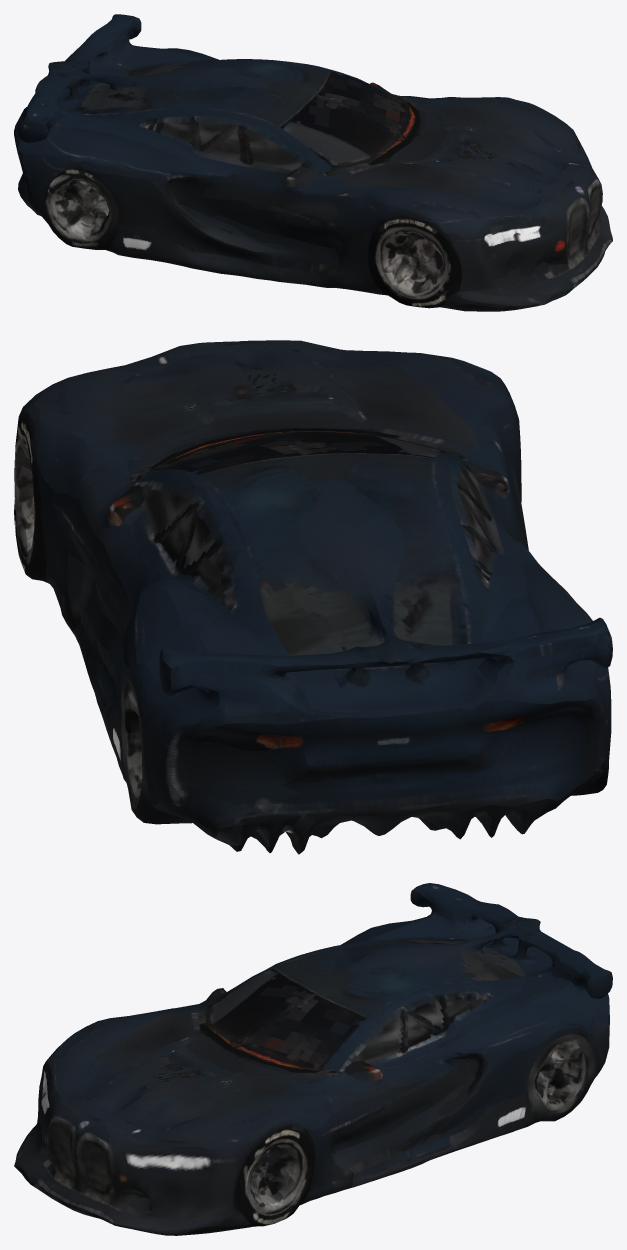
Rendered from bmw_m5_dark_grey.glb.
3 views of the same model, one above another, from view 1: azimuth 30°, elevation 25°; view 2: azimuth 150°, elevation 25°; view 3: azimuth 270°, elevation 25° (orthographic). The views are drawn at different scales.
Visible parts, largest first — view 1: bmw_m5_dark_grey; view 2: bmw_m5_dark_grey; view 3: bmw_m5_dark_grey.
Boxes of the visible parts, <box> form: bmw_m5_dark_grey: <box>14,14,612,311</box>; bmw_m5_dark_grey: <box>14,340,612,854</box>; bmw_m5_dark_grey: <box>14,883,612,1235</box>.
Size of what is drawn, in the model's own units: 3.16 by 0.891 by 3.39.
Materials: 1 (1 with a texture image).
